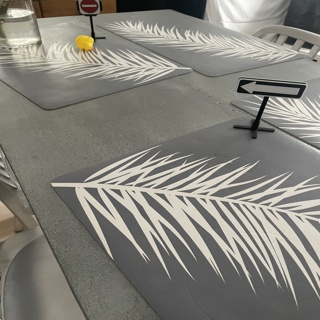sign_oneway_left: (236, 73, 305, 99)
